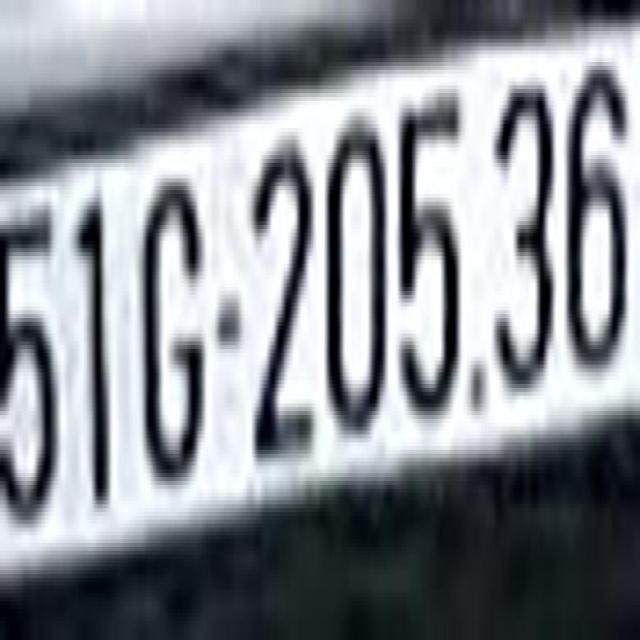0: (324, 112, 386, 434)
1: (70, 193, 116, 504)
2: (250, 132, 314, 454)
3: (496, 70, 554, 400)
5: (398, 93, 466, 415), (0, 213, 62, 528)
6: (565, 54, 631, 365)
G: (145, 170, 210, 504)
